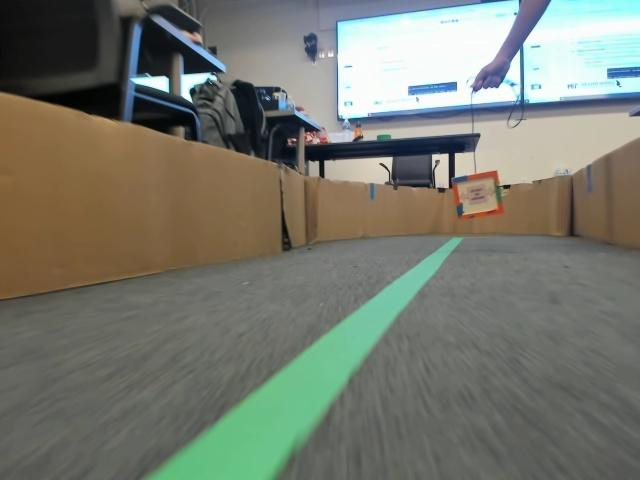Do Not Go Around: (458, 188, 492, 205)
